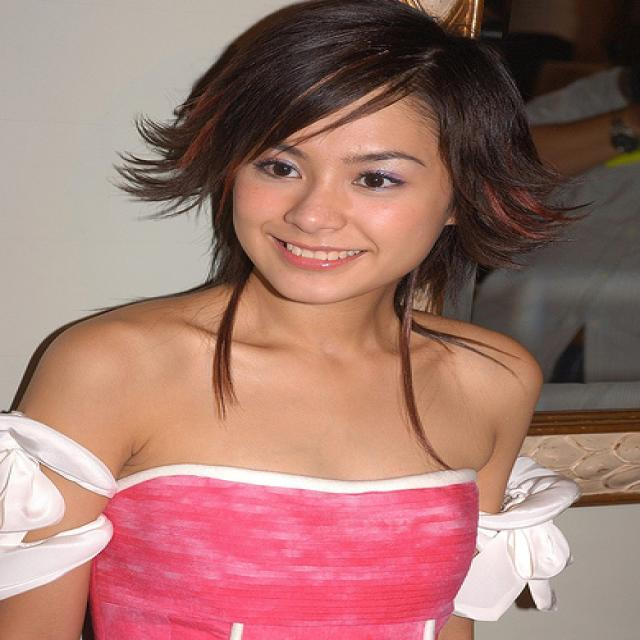person: (1, 1, 574, 640)
